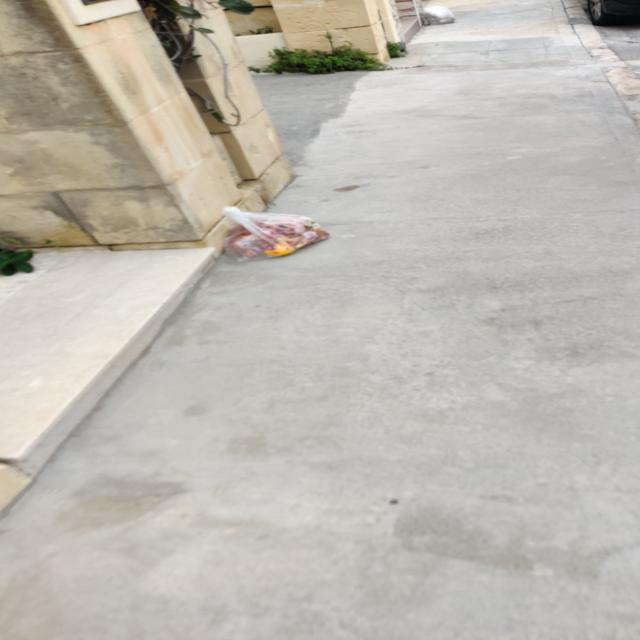Organic Waste -White Bags-: (211, 204, 337, 264)
